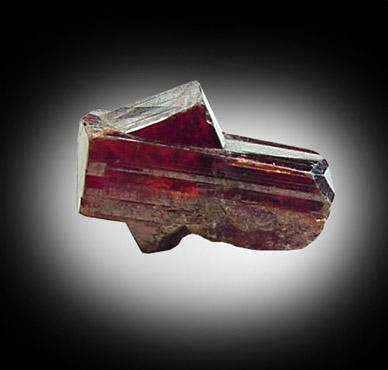tantalite: (78, 81, 335, 254)
